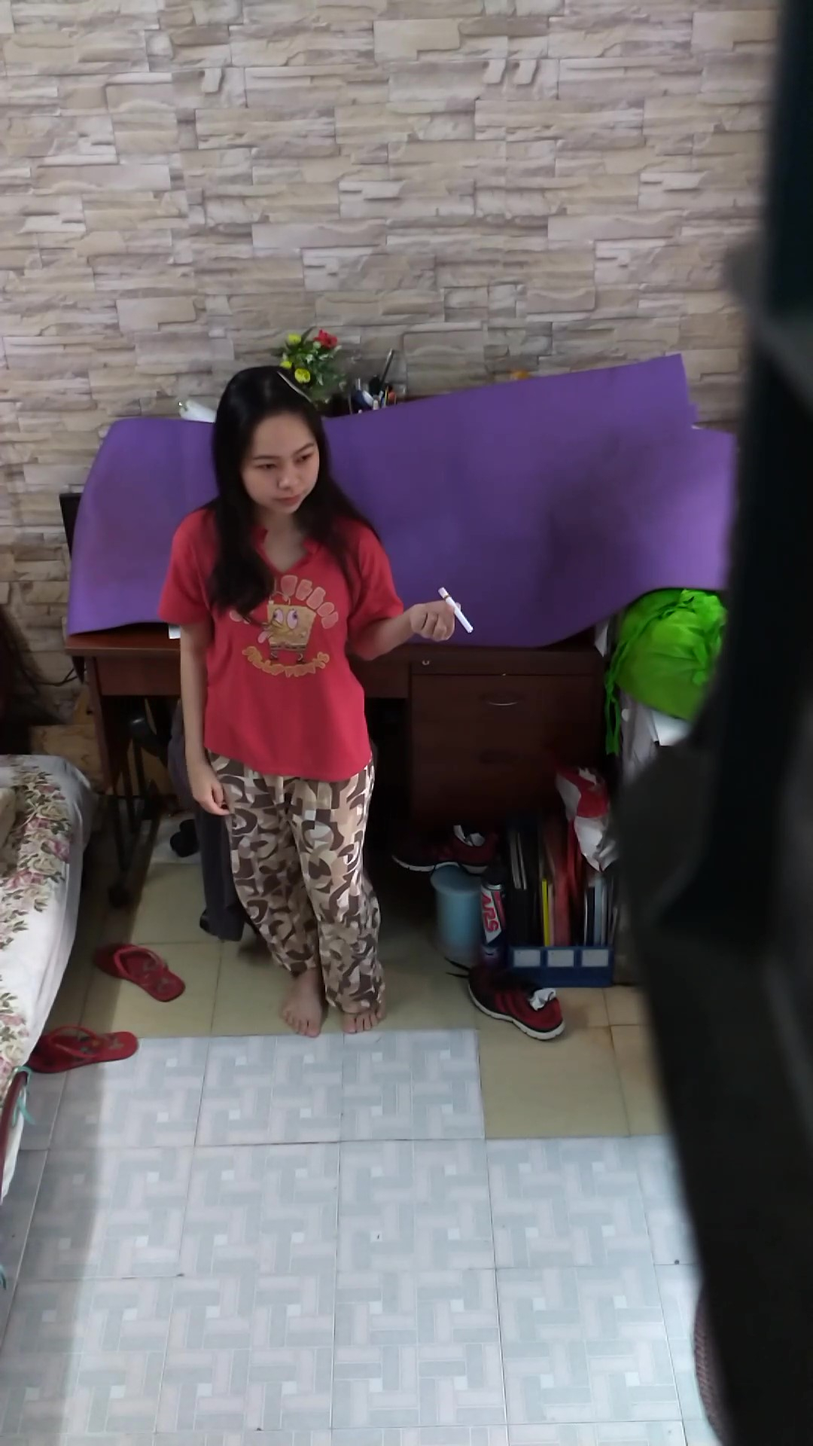cigarette: (439, 584, 477, 638)
person: (160, 366, 471, 1042)
